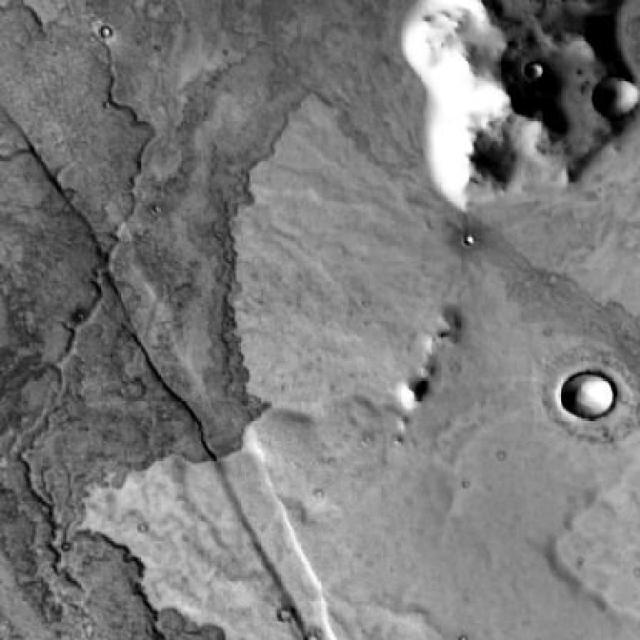crater: (561, 372, 617, 423), (592, 76, 631, 118), (528, 62, 548, 81)
